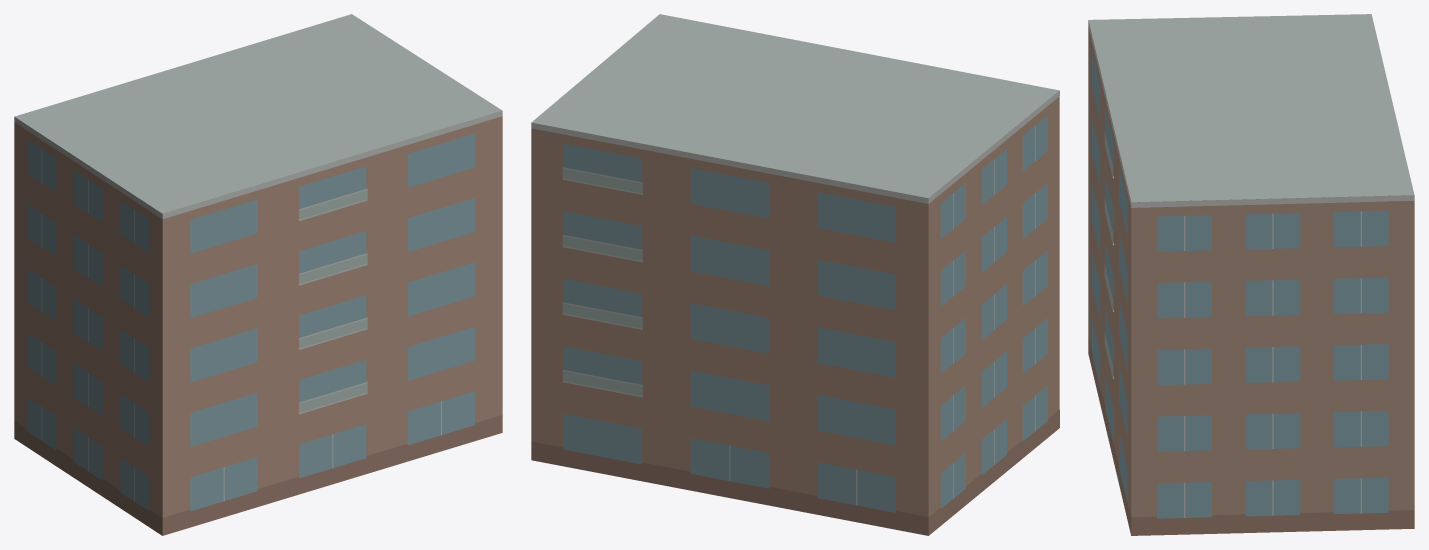
File: survey-upis-32767316.glb
3 views of the same model, side by side, from view 1: azimuth 30°, elevation 25°; view 2: azimuth 150°, elevation 25°; view 3: azimuth 270°, elevation 25° (orthographic). The views are drawn at different scales.
Parts seen in each view (by area): view 1: survey-upis-32767316.tmp; view 2: survey-upis-32767316.tmp; view 3: survey-upis-32767316.tmp.
Boxes of the visible parts, bbox=[...] form: survey-upis-32767316.tmp: bbox=[14, 14, 502, 535]; survey-upis-32767316.tmp: bbox=[531, 14, 1059, 535]; survey-upis-32767316.tmp: bbox=[1088, 14, 1414, 535].
Size of the model in its own units: 17.32 by 14.3 by 12.68.
